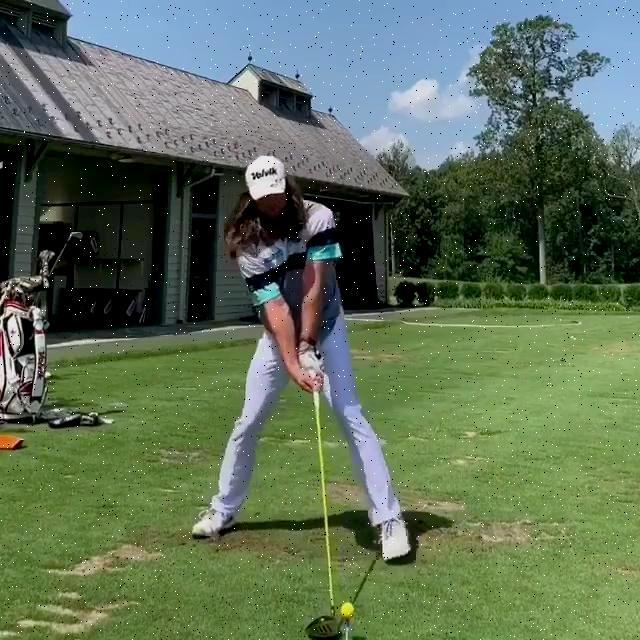golf ball: (340, 602, 355, 619)
golf club-handle: (304, 391, 338, 639)
golf club-head: (304, 616, 337, 639)
